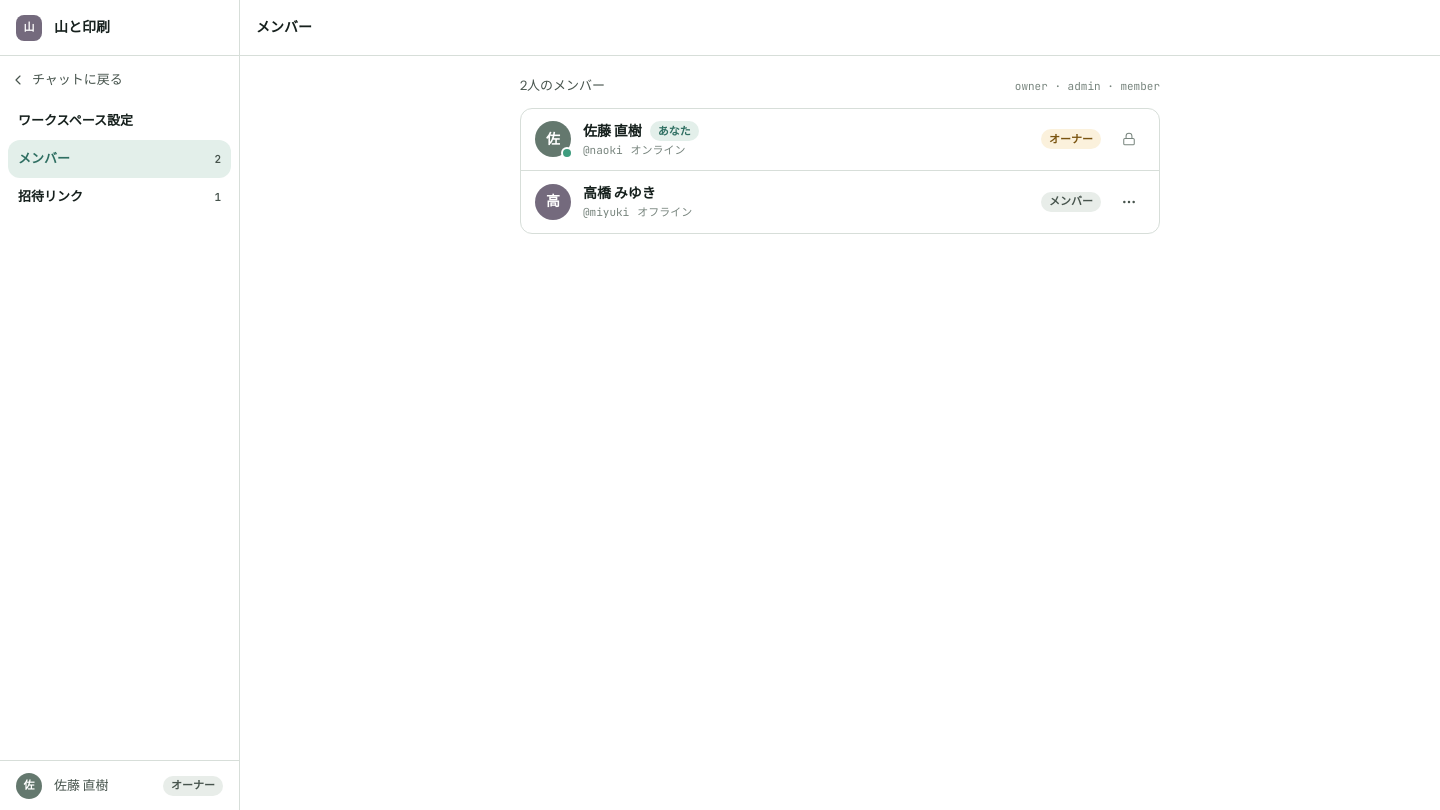
it: the workspace admin screens › members › asks before kicking, then drops the member
This screenshot has width=1440, height=810.
Click the button named "高橋 みゆき のロールを変更". click: (1129, 202)
box: 1113,186 -> 1145,218
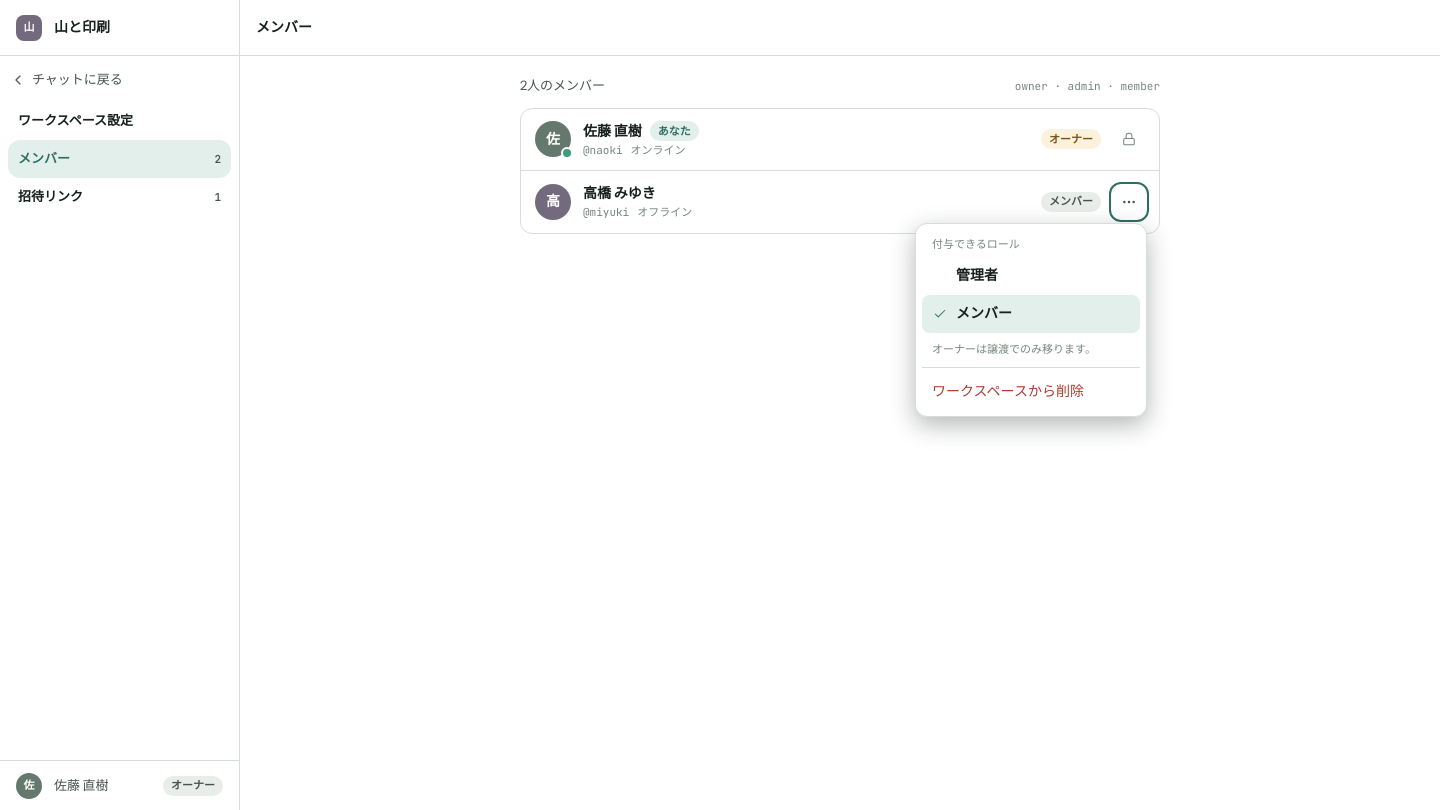
Click the button "ワークスペースから削除". click: (1031, 391)
box: 922,372 -> 1140,410
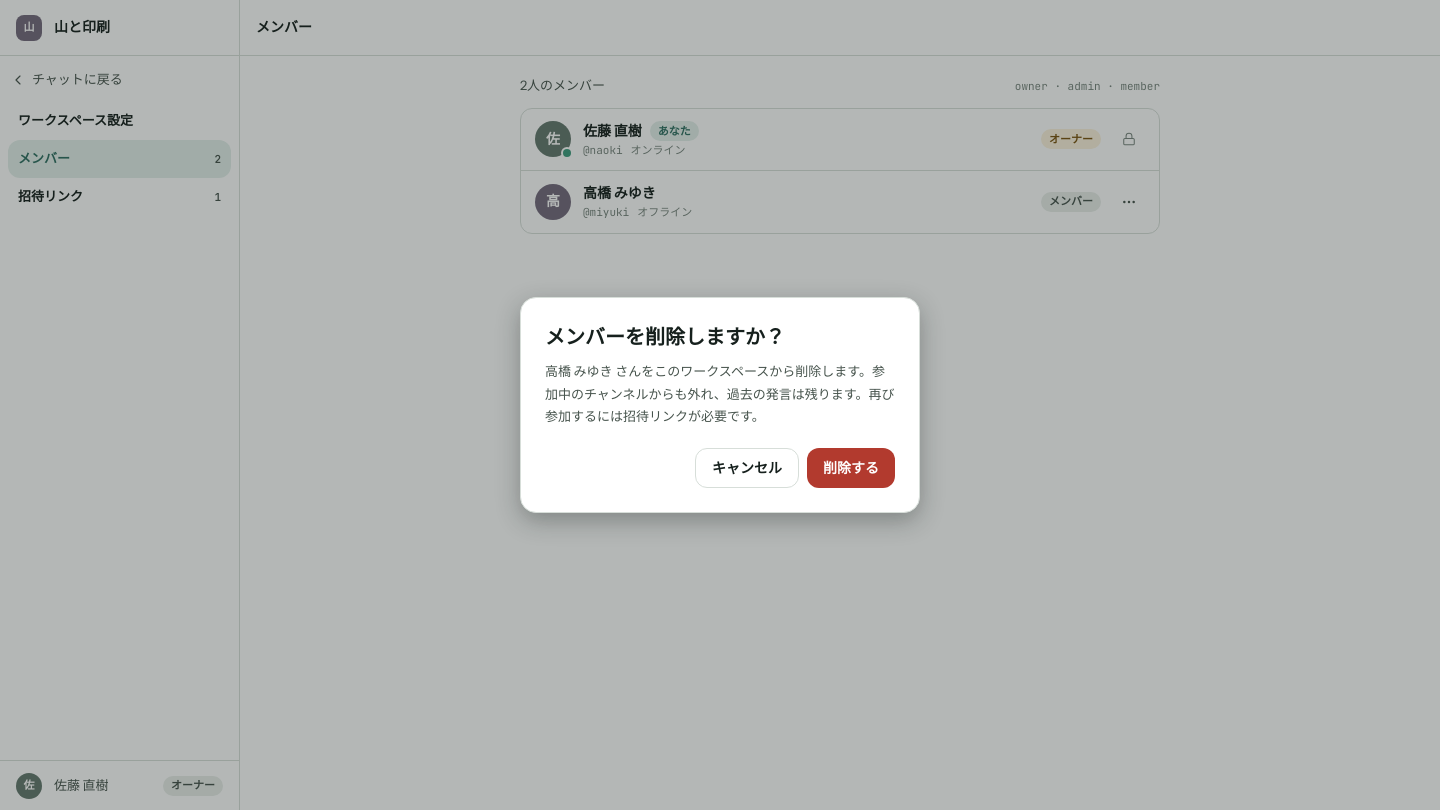
Check: the dialog shows "高橋 みゆき さんをこのワークスペースから削除します", box 545,363 -> 894,424
Click the button "削除する". click: (851, 468)
box: 807,448 -> 895,488
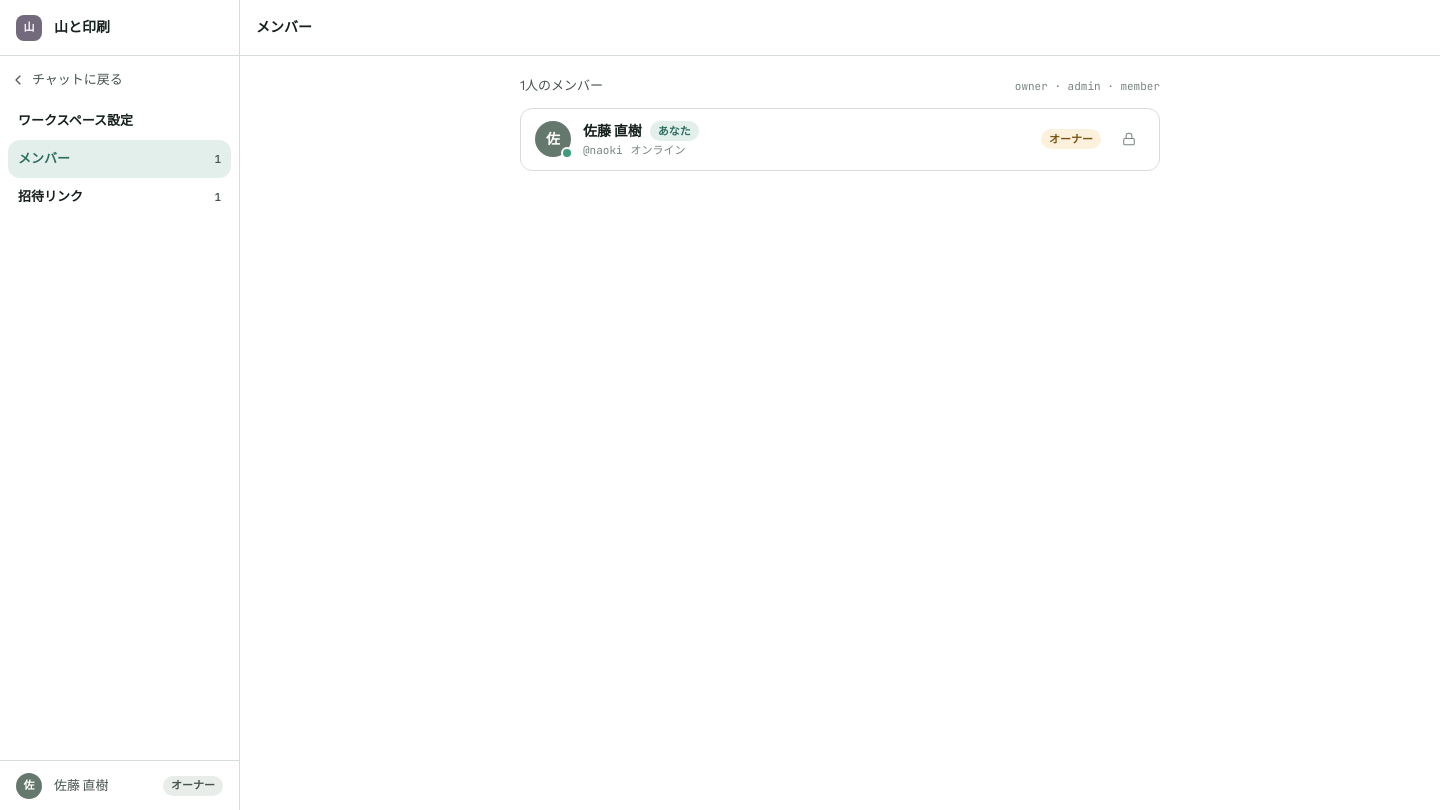
Check: the text "高橋 みゆき" is gone
